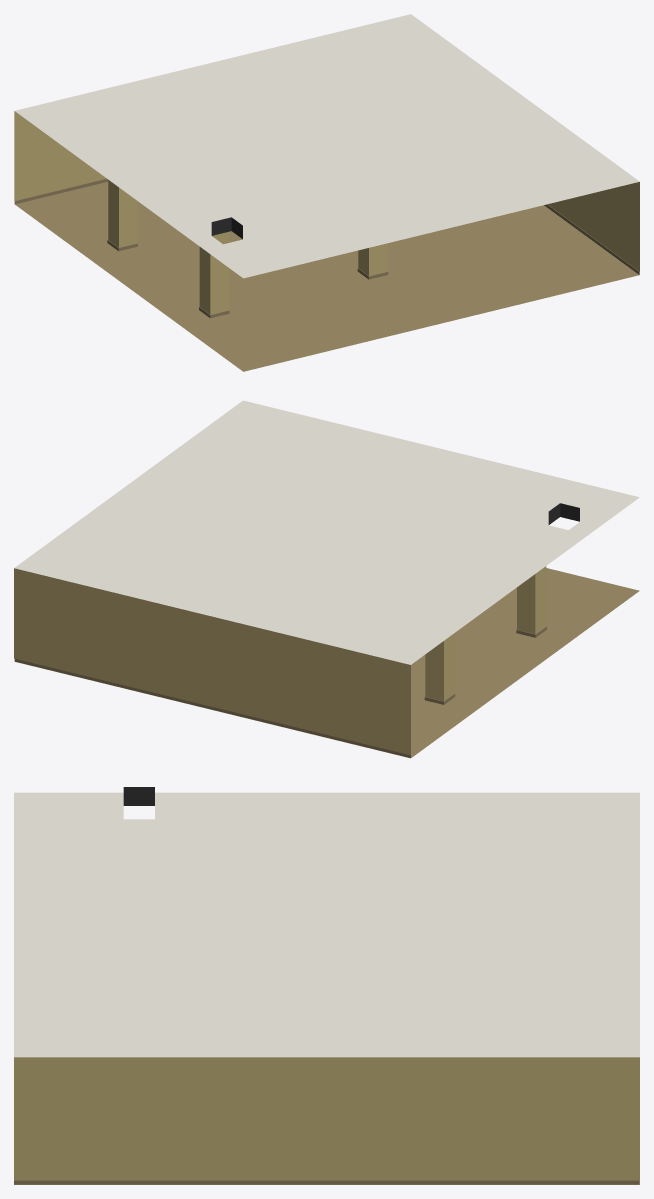
File: chunk_5_0.glb
3 views of the same model, one above another, from view 1: azimuth 30°, elevation 25°; view 2: azimuth 150°, elevation 25°; view 3: azimuth 270°, elevation 25° (orthographic). The views are drawn at different scales.
Parts seen in each view (by area): view 1: chunk_5_0; view 2: chunk_5_0; view 3: chunk_5_0.
Part boxes in pixels (left/top/right/bottom): chunk_5_0: left=14, top=14, right=639, bottom=371; chunk_5_0: left=14, top=400, right=639, bottom=758; chunk_5_0: left=14, top=787, right=639, bottom=1184.
Size of the model in its own units: 12.01 by 3.1 by 12.
